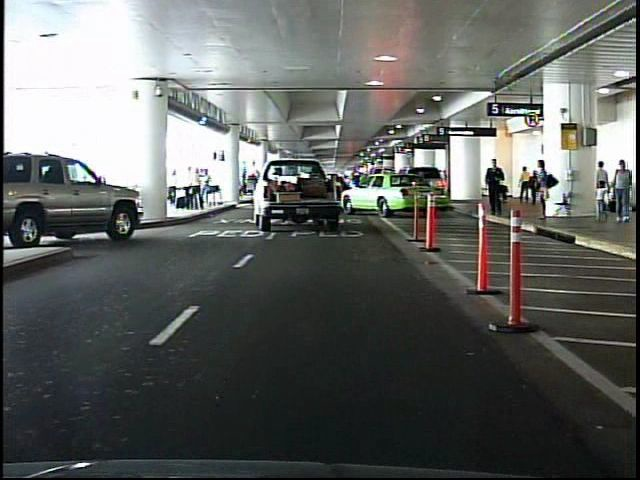person: (531, 156, 556, 225), (485, 156, 506, 218), (590, 176, 610, 225), (519, 166, 529, 203)
